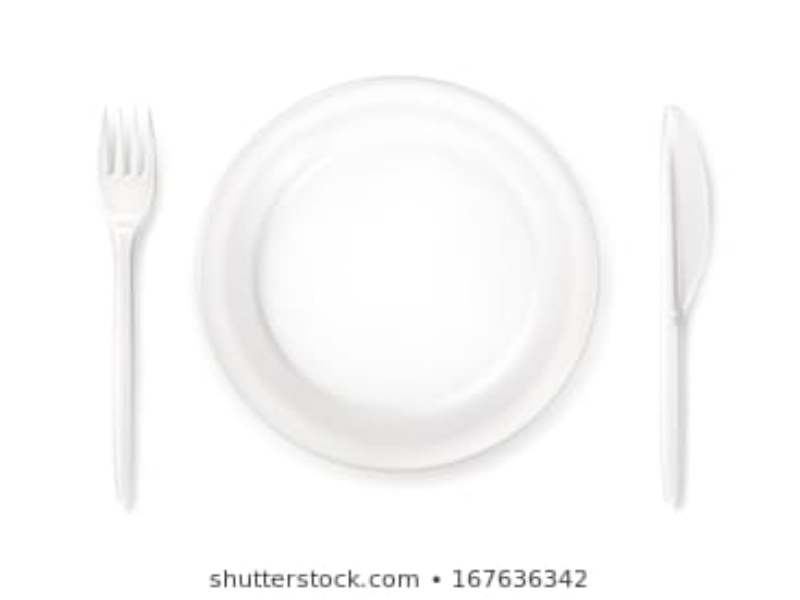plastic-plate: (189, 71, 605, 473)
plastic-silverware: (90, 102, 156, 505), (657, 99, 715, 510)
